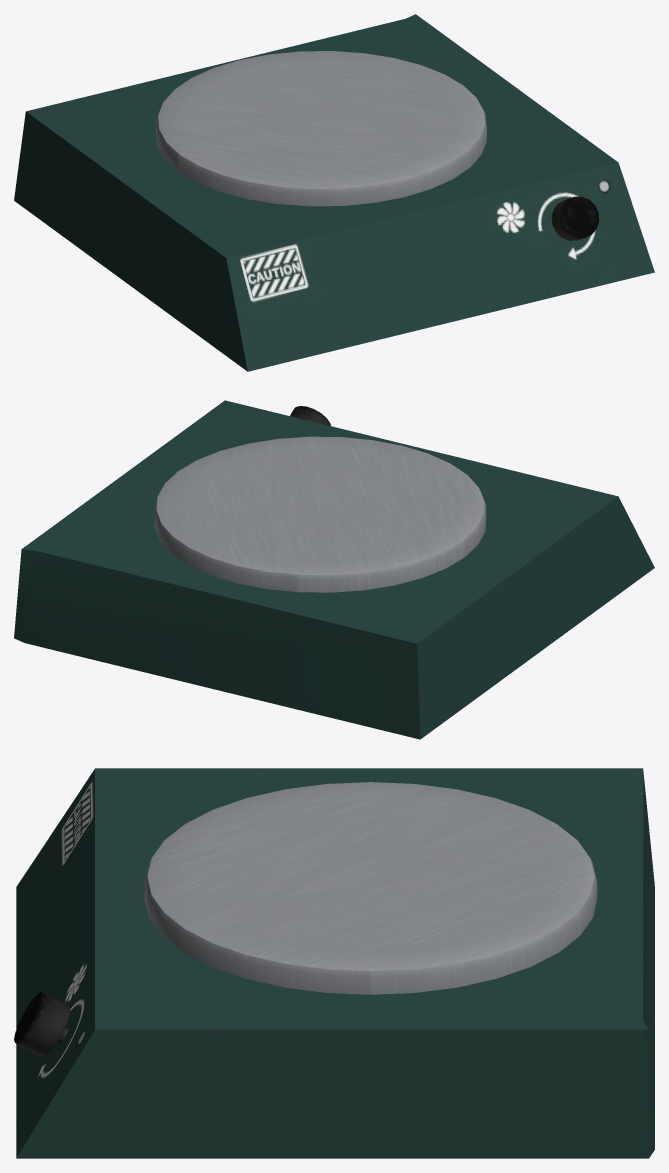
Rendered from MagneticStirrer.fbx.
The picture shows the model from 3 angles, top to bottom: view 1: azimuth 30°, elevation 25°; view 2: azimuth 150°, elevation 25°; view 3: azimuth 270°, elevation 25°; orthographic projection. The views are drawn at different scales.
Visible parts, largest first — view 1: Agitateur_magnetique.001; view 2: Agitateur_magnetique.001; view 3: Agitateur_magnetique.001.
Part boxes in pixels (x1,y1,x2,y2): Agitateur_magnetique.001: (14,14,654,371); Agitateur_magnetique.001: (14,400,654,739); Agitateur_magnetique.001: (14,768,654,1158).
Size of the model in its own units: 2436 by 680 by 2432.
1 material, 1 textured.
